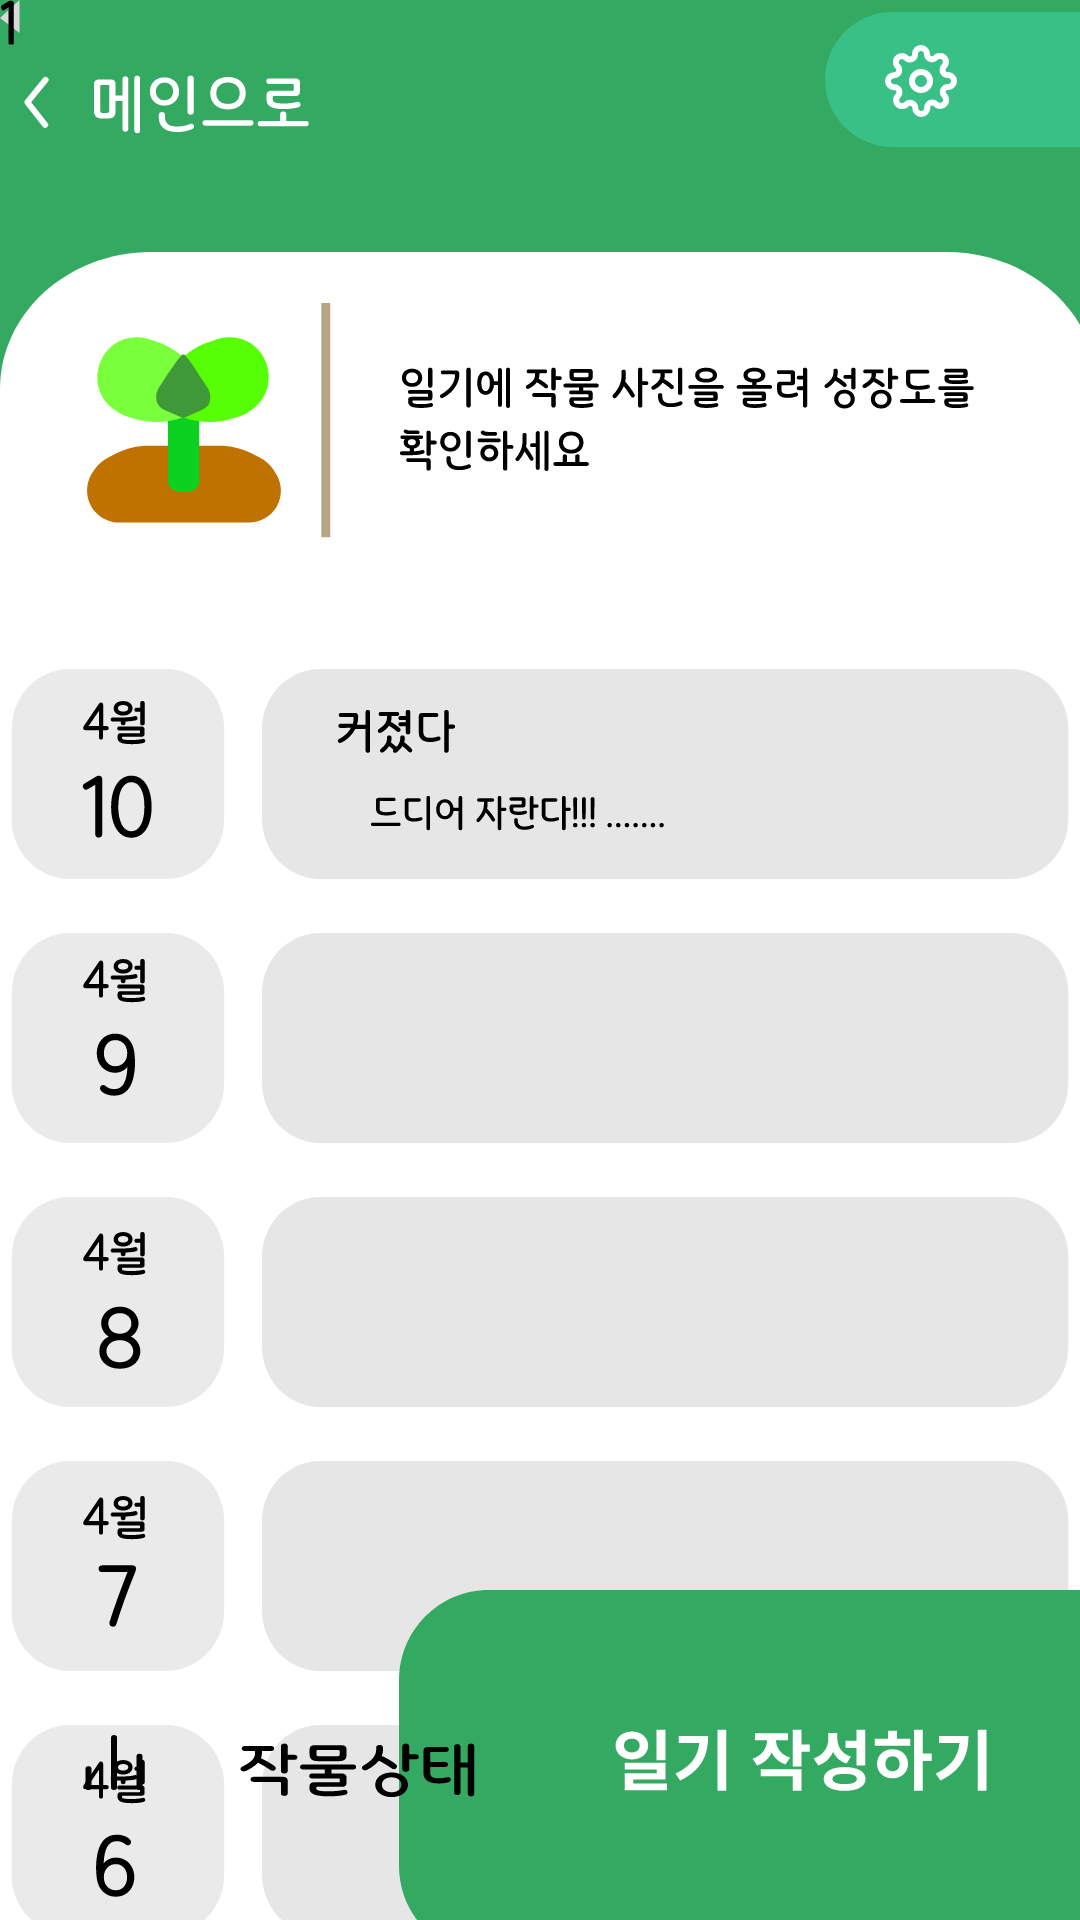

Where to tap for icons on this 1080 × 1920 app screen, as [x,y]:
diary setting: [952,79]
